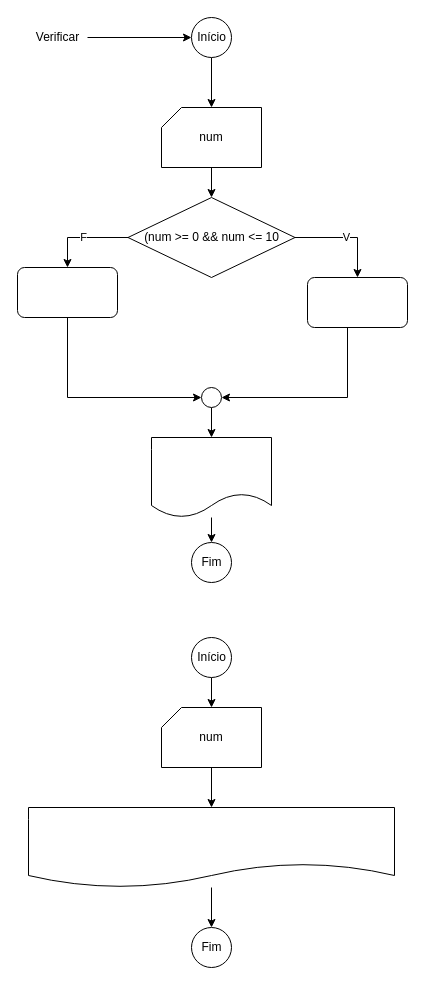
This 425x985 diagram has some shape labels left out. The shapes that lost their labels are listed below. From the top down, each one's centre as x and y in pixels, then its label:
(67,292): retorno = 1
(357,302): retorno = 0
(211,477): Retorna retorno
(211,847): Escreva << "O programa retornou " << Verificar(num) << endl
